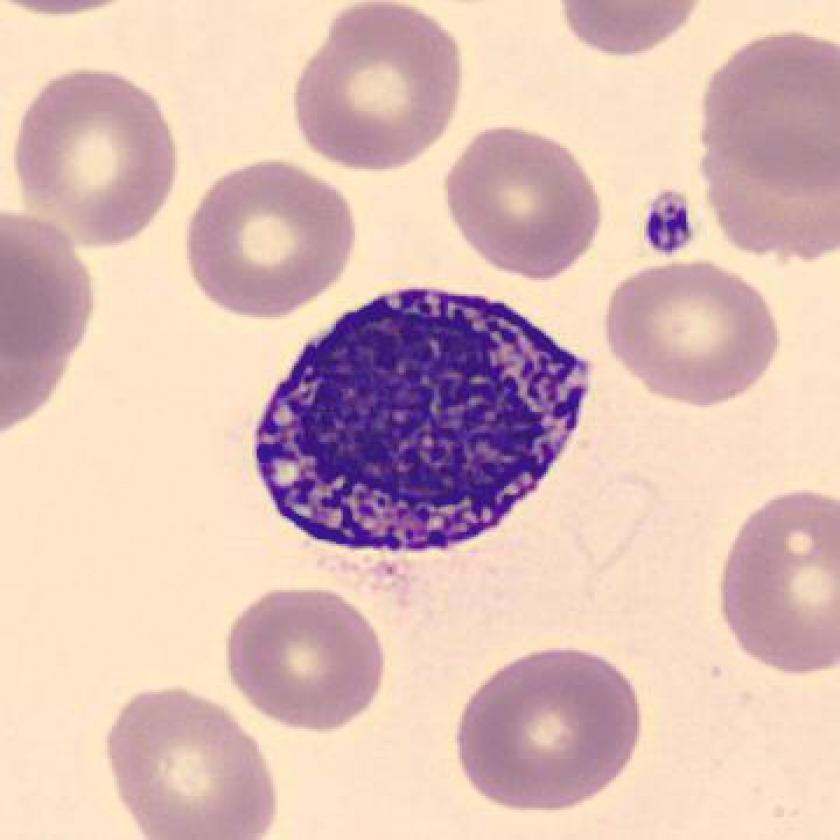basophil: (246, 279, 610, 577)
